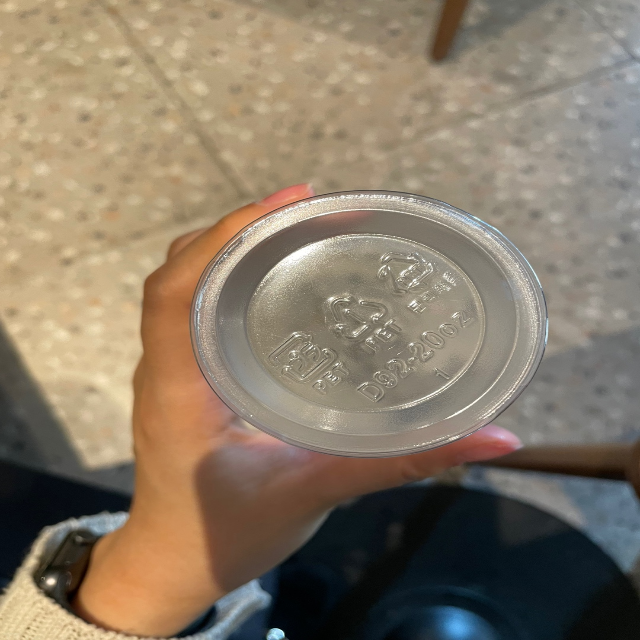pet: (264, 330, 354, 398), (375, 248, 459, 319), (326, 289, 403, 360)
